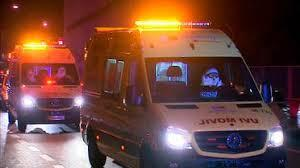ambulance: (75, 19, 289, 168)
